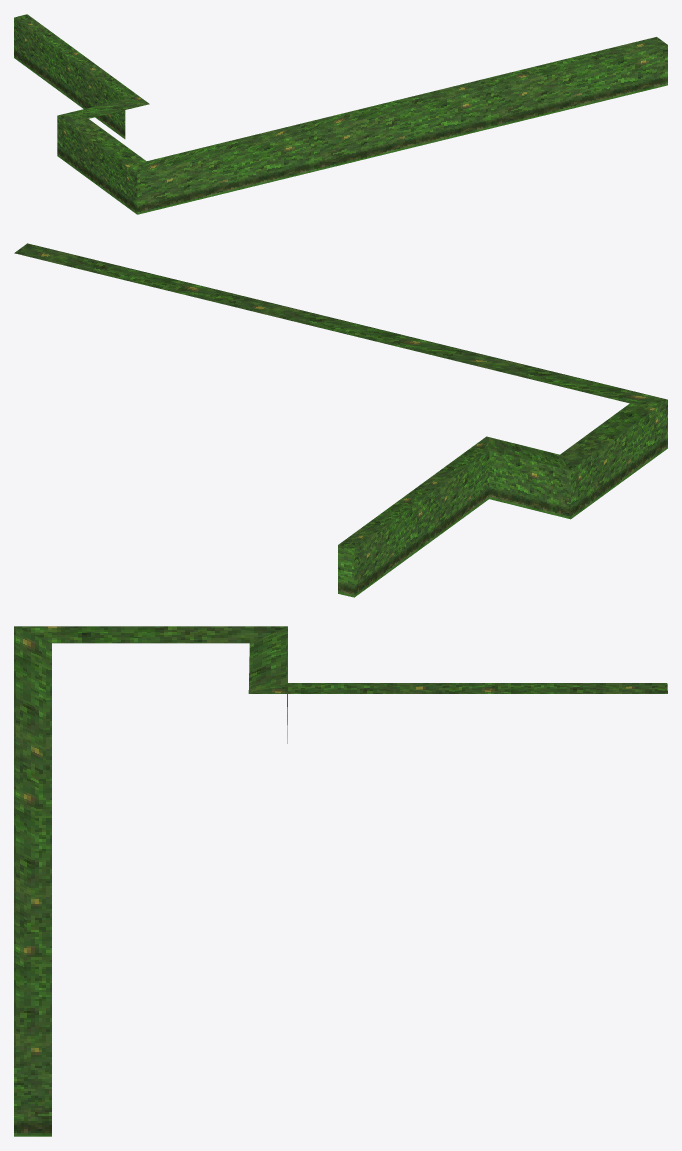
Rendered from bushes01.glb.
The picture shows the model from 3 angles, top to bottom: view 1: azimuth 30°, elevation 25°; view 2: azimuth 150°, elevation 25°; view 3: azimuth 270°, elevation 25°; orthographic projection. The views are drawn at different scales.
Visible parts, largest first — view 1: bushes01; view 2: bushes01; view 3: bushes01.
Boxes of the visible parts, x1,y1,x2,y2 form: bushes01: (14, 14, 667, 214); bushes01: (14, 243, 667, 597); bushes01: (14, 626, 667, 1136).
Bounding box in the file's own units: 2535 × 185 × 1586.
Materials: 1 (1 with a texture image).
